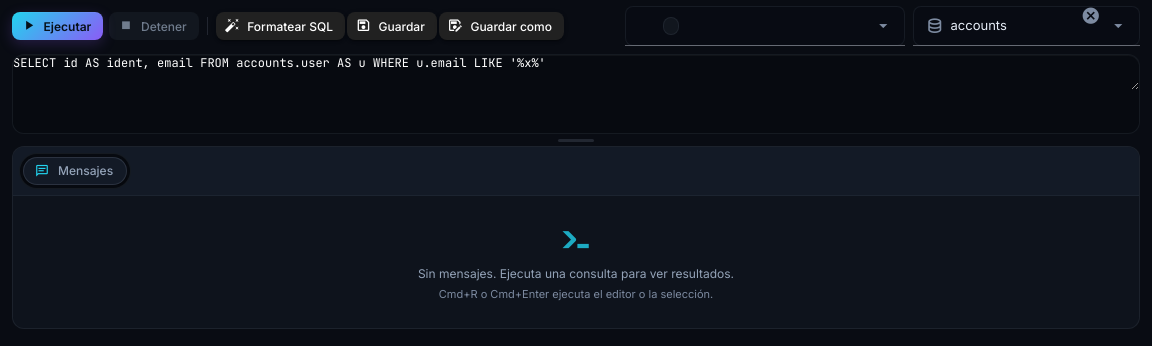
Scenario: QueryView › editable results (one base table with its primary key) › keeps a derived table read-only even when its metadata names one base table
The width and height of the screenshot is (1152, 346).
Step 1. Click the button with test id "run" → (58, 26), box [12, 12, 103, 40]
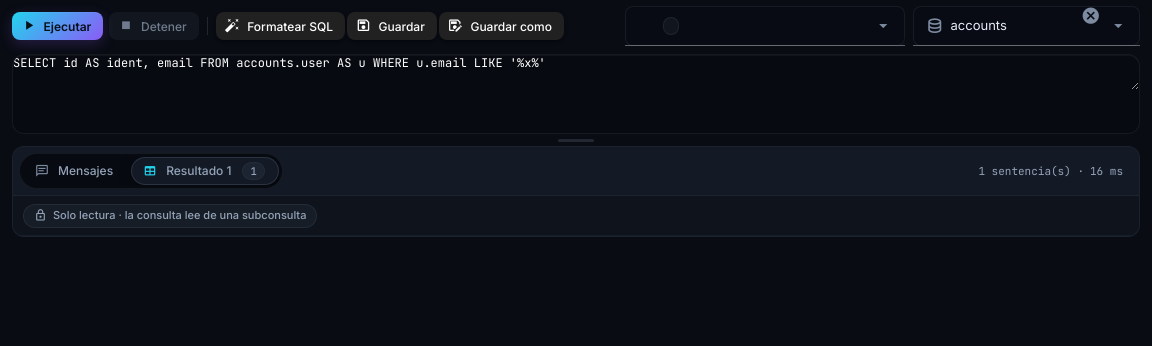
Expected: the message with test id "editability" reads "Solo lectura · la consulta lee de una subconsulta", [53, 208, 306, 222]
